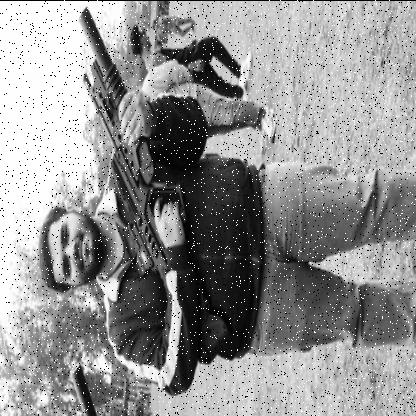rifle: (78, 4, 232, 366)
